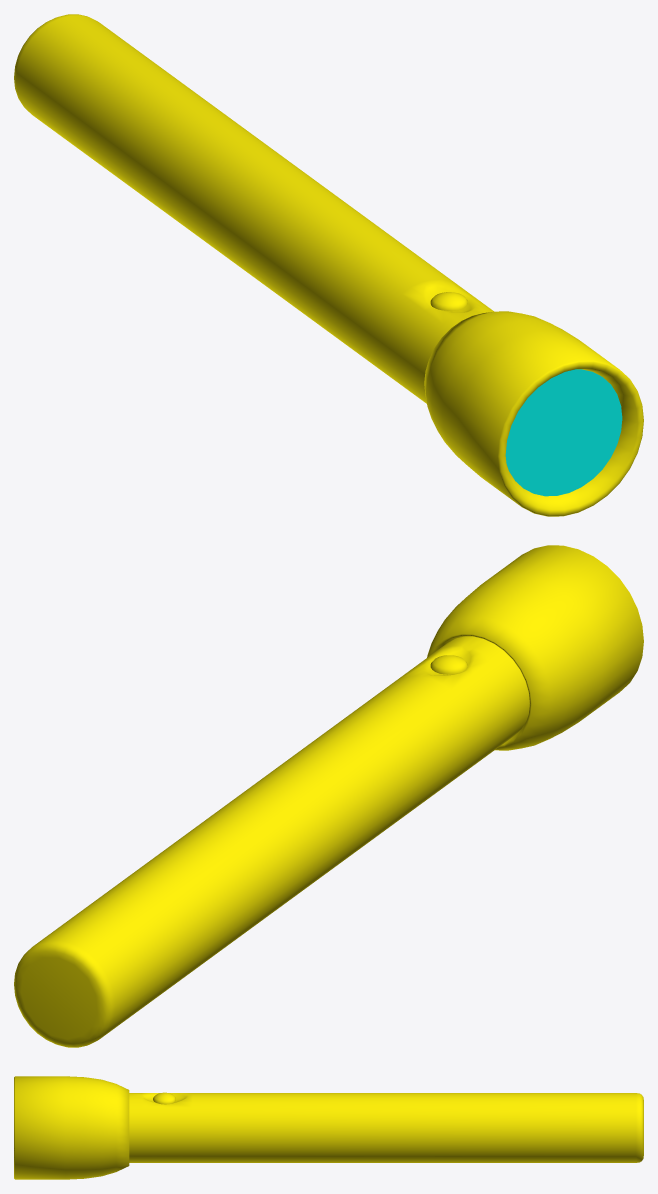
The model's file is Flashlight.FBX.
3 views of the same model, one above another, from view 1: azimuth 30°, elevation 25°; view 2: azimuth 150°, elevation 25°; view 3: azimuth 270°, elevation 25° (orthographic). The views are drawn at different scales.
Parts seen in each view (by area): view 1: Flashlight; view 2: Flashlight; view 3: Flashlight.
Boxes of the visible parts, x1,y1,x2,y2 form: Flashlight: (14, 14, 643, 516); Flashlight: (14, 545, 643, 1047); Flashlight: (14, 1076, 643, 1179).
Size of what is drawn, in the model's own units: 5.91 by 5.87 by 35.84.
